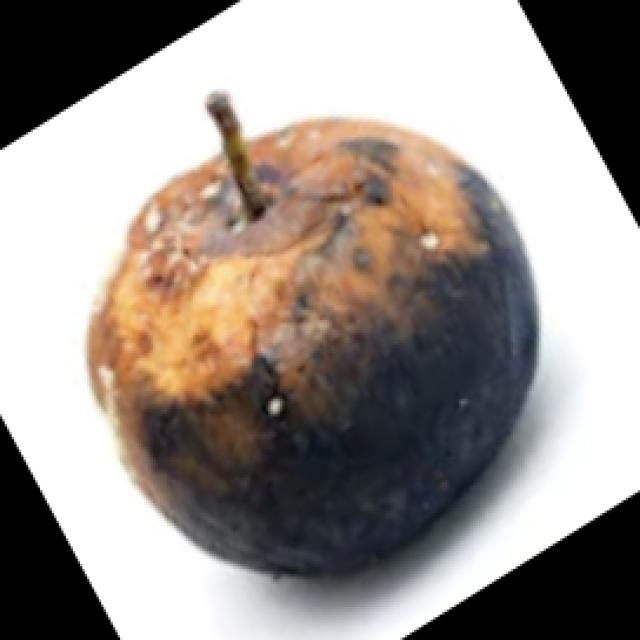Rotten: (100, 132, 528, 578)
